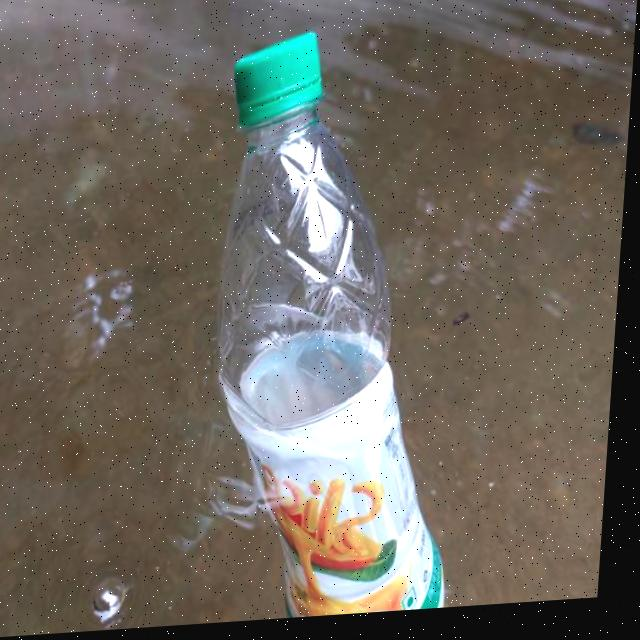waterbottle: (158, 15, 492, 630)
